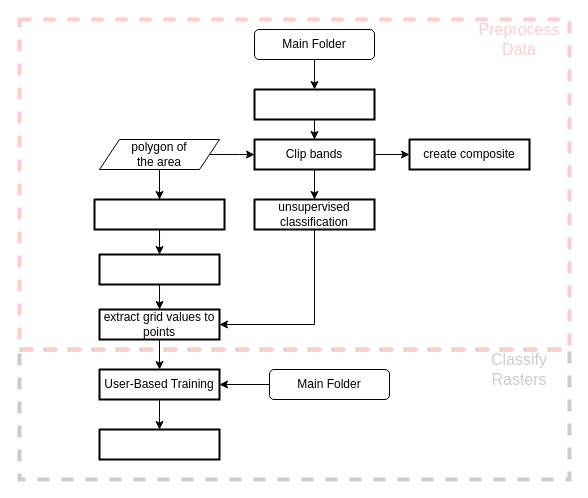
Image size: 588x498. Some labels were removed from this diagram. The box of each missing label's shape, as (x1, y1, x2, y2) in pixels:
create sample points: (93, 198, 225, 230)
Filter bands: (253, 88, 375, 120)
Maximum Likelihood Classification: (98, 428, 220, 460)
snap points to cell centers: (98, 253, 220, 285)
